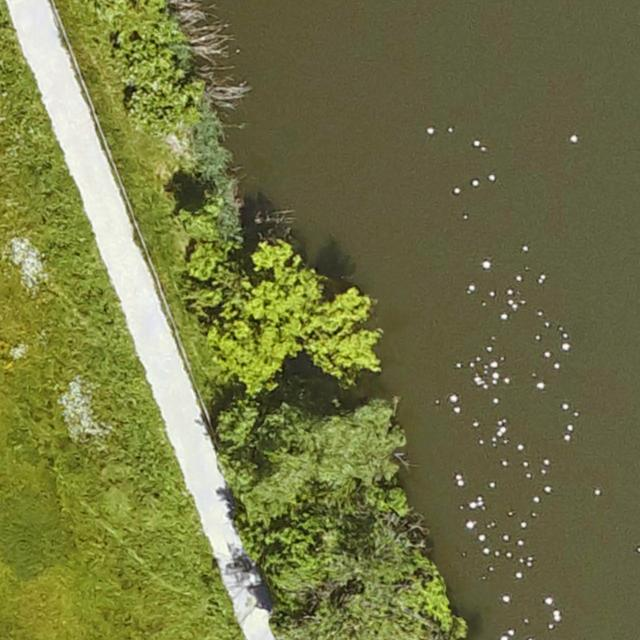tree: (195, 237, 387, 394), (215, 398, 412, 528)
